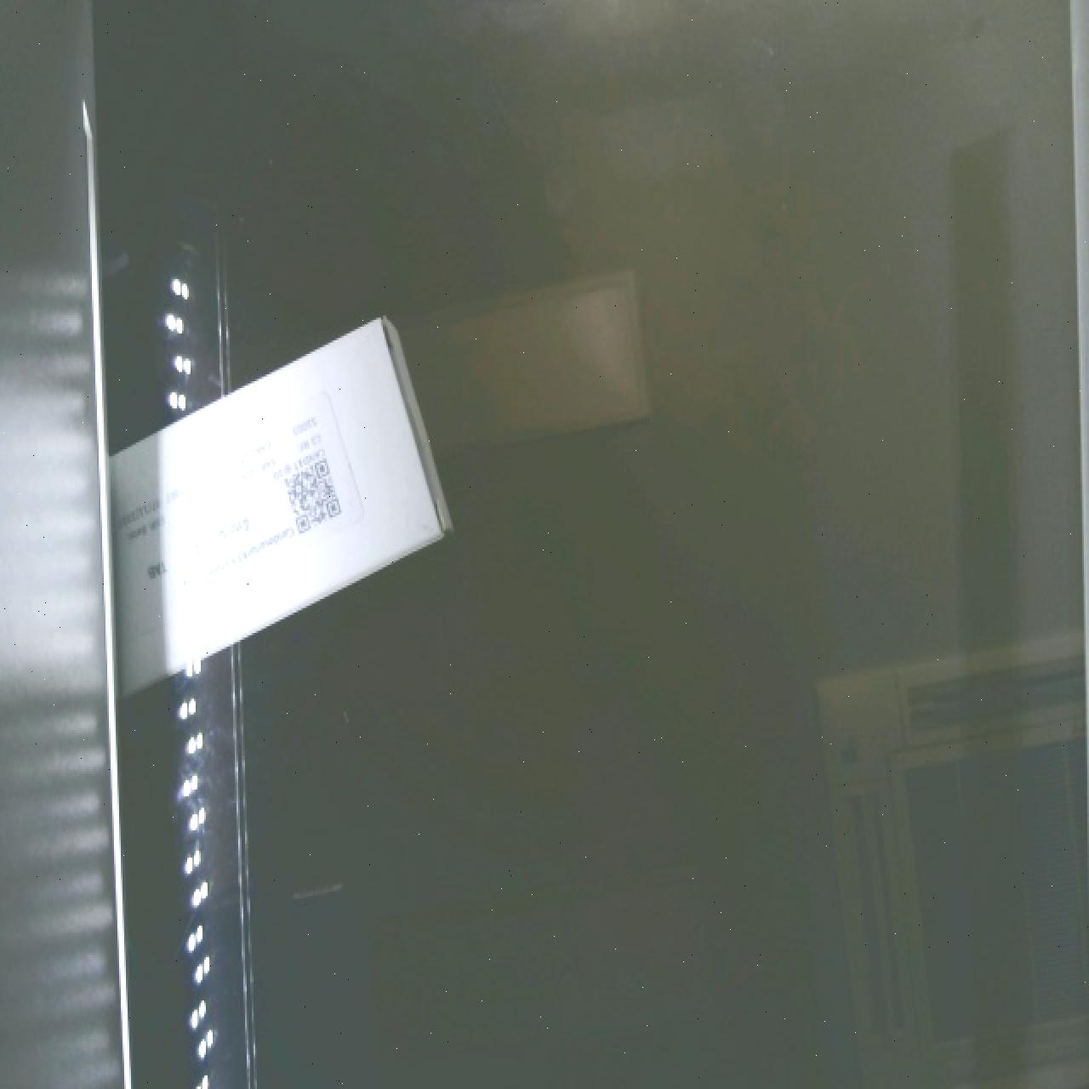qr_code: (256, 430, 369, 557)
